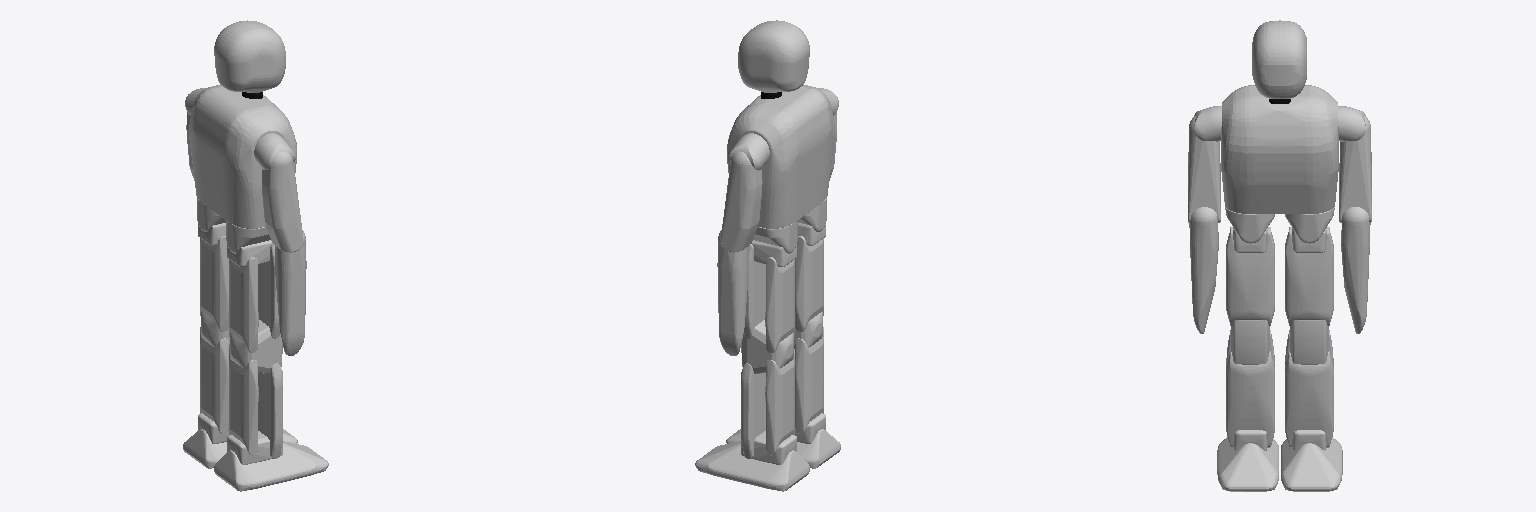
--- What the picture shows (computed from the rendered views, not written in the file) ---
3 views of the same robot in one strip: view 1: azimuth 30°, elevation 25°; view 2: azimuth 150°, elevation 25°; view 3: azimuth 270°, elevation 25° (orthographic).
Robot: nimbro_op2x — 42 links, 41 joints (36 continuous, 5 fixed); root link trunk_link; default pose: all joints at 0.
Links seen in each view (by area): view 1: trunk_link, head_link, right_upper_arm_link, parallel_right_foot_link, right_lower_arm_link, parallel_right_shank_back_link, parallel_left_shank_back_link, parallel_right_thigh_back_link, parallel_left_thigh_back_link, parallel_right_shank_front_link, parallel_right_knee_front_link, parallel_right_thigh_front_link (+6 smaller); view 2: trunk_link, head_link, left_upper_arm_link, parallel_left_foot_link, left_lower_arm_link, parallel_left_shank_back_link, parallel_right_shank_back_link, parallel_left_thigh_back_link, parallel_right_thigh_back_link, parallel_left_shank_front_link, parallel_left_knee_front_link, parallel_left_thigh_front_link (+6 smaller); view 3: trunk_link, head_link, parallel_right_thigh_front_link, parallel_left_thigh_front_link, parallel_right_shank_front_link, parallel_left_shank_front_link, right_lower_arm_link, left_lower_arm_link, parallel_right_foot_link, parallel_left_foot_link, right_upper_arm_link, left_upper_arm_link (+8 smaller).
Boxes of the visible links, left/top/right/bottom form: trunk_link: left=189, top=84, right=296, bottom=228; head_link: left=214, top=20, right=285, bottom=92; right_upper_arm_link: left=262, top=151, right=303, bottom=252; parallel_right_foot_link: left=214, top=441, right=328, bottom=491; right_lower_arm_link: left=275, top=230, right=306, bottom=355; parallel_right_shank_back_link: left=229, top=349, right=258, bottom=455; parallel_left_shank_back_link: left=200, top=327, right=228, bottom=433; parallel_right_thigh_back_link: left=229, top=257, right=258, bottom=352; parallel_left_thigh_back_link: left=200, top=236, right=228, bottom=331; parallel_right_shank_front_link: left=258, top=363, right=282, bottom=458; parallel_right_knee_front_link: left=230, top=320, right=282, bottom=373; parallel_right_thigh_front_link: left=258, top=243, right=280, bottom=338; trunk_link: left=727, top=84, right=834, bottom=228; head_link: left=738, top=20, right=809, bottom=92; left_upper_arm_link: left=720, top=152, right=762, bottom=252; parallel_left_foot_link: left=695, top=441, right=809, bottom=491; left_lower_arm_link: left=717, top=230, right=748, bottom=355; parallel_left_shank_back_link: left=765, top=349, right=794, bottom=455; parallel_right_shank_back_link: left=795, top=327, right=823, bottom=433; parallel_left_thigh_back_link: left=765, top=257, right=794, bottom=353; parallel_right_thigh_back_link: left=795, top=236, right=823, bottom=331; parallel_left_shank_front_link: left=741, top=363, right=765, bottom=458; parallel_left_knee_front_link: left=741, top=320, right=793, bottom=373; parallel_left_thigh_front_link: left=744, top=244, right=765, bottom=338; trunk_link: left=1221, top=85, right=1338, bottom=213; head_link: left=1252, top=20, right=1306, bottom=98; parallel_right_thigh_front_link: left=1226, top=229, right=1274, bottom=325; parallel_left_thigh_front_link: left=1285, top=229, right=1333, bottom=325; parallel_right_shank_front_link: left=1226, top=351, right=1274, bottom=447; parallel_left_shank_front_link: left=1285, top=351, right=1333, bottom=447; right_lower_arm_link: left=1189, top=207, right=1218, bottom=333; left_lower_arm_link: left=1341, top=207, right=1370, bottom=333; parallel_right_foot_link: left=1217, top=437, right=1278, bottom=491; parallel_left_foot_link: left=1281, top=437, right=1342, bottom=491; right_upper_arm_link: left=1188, top=116, right=1220, bottom=222; left_upper_arm_link: left=1339, top=116, right=1371, bottom=222.
Size in the robot's own frame: 0.298 by 0.5006 by 1.32 metres.
Meshes: 21 distinct files referenced, 27 mesh visuals loaded (21 binary STL).

URDF robot description (nimbro_op2x):
<?xml version="1.0" ?>
<!-- =================================================================================== -->
<!-- |    This document was autogenerated by xacro from nimbro_op2x_hull.xacro         | -->
<!-- |    EDITING THIS FILE BY HAND IS NOT RECOMMENDED                                 | -->
<!-- =================================================================================== -->
<robot name="nimbro_op2x" xmlns:xacro="http://www.ros.org/wiki/xacro">
  <!-- Materials -->
  <material name="black">
    <color rgba="0.1 0.1 0.1 1"/>
  </material>
  <material name="white">
    <color rgba="0.8 0.8 0.8 1"/>
  </material>
  <material name="clear">
    <color rgba="1.0 1.0 1.0 0.0"/>
  </material>
  <material name="orange">
    <color rgba="1.0 0.423529411765 0.0392156862745 1.0"/>
  </material>
  <!-- Joints and links -->
  <link name="trunk_link">
    <inertial>
      <origin rpy="0 0 0" xyz="0 0 0"/>
      <mass value="5.06692801"/>
      <inertia ixx="0.18042907" ixy="-0.00003477" ixz="0.00412903" iyy="0.16069639" iyz="-0.00149697" izz="0.05070835"/>
    </inertial>
    <visual>
      <origin rpy="0 0 0 " xyz="0 0 0"/>
      <geometry>
        <mesh filename="package://nimbro_op_model/mesh/nimbro_op2x_hull/trunk_link.STL"/>
      </geometry>
      <material name="white"/>
    </visual>
    <collision>
      <origin rpy="0 0 0" xyz="0 0 0"/>
      <geometry>
        <mesh filename="package://nimbro_op_model/mesh/nimbro_op2x_hull/trunk_link.STL"/>
      </geometry>
    </collision>
  </link>
  <link name="right_hip_yaw_link">
    <inertial>
      <origin rpy="0 0 0" xyz="0 0 0"/>
      <mass value="0.31538736"/>
      <inertia ixx="0.00083031" ixy="0.00000000" ixz="0.00000087" iyy="0.00132167" iyz="0.00000000" izz="0.00121851"/>
    </inertial>
    <visual>
      <origin rpy="0 0 0" xyz="0 0 0"/>
      <geometry>
        <mesh filename="package://nimbro_op_model/mesh/nimbro_op2x_hull/hip_yaw_link.STL"/>
      </geometry>
      <material name="white"/>
    </visual>
    <collision>
      <origin rpy="0 0 0" xyz="0 0 0"/>
      <geometry>
        <mesh filename="package://nimbro_op_model/mesh/nimbro_op2x_hull/hip_yaw_link.STL"/>
      </geometry>
    </collision>
  </link>
  <joint name="right_hip_yaw" type="continuous">
    <origin rpy="0 0 0" xyz="0 -0.08 0.0005"/>
    <parent link="trunk_link"/>
    <child link="right_hip_yaw_link"/>
    <axis xyz="0 0 1"/>
  </joint>
  <link name="right_hip_roll_link">
    <inertial>
      <origin rpy="0 0 0" xyz="0 0 0"/>
      <mass value="0.52680550"/>
      <inertia ixx="0.00120200" ixy="0.00000000" ixz="0.00001968" iyy="0.00166590" iyz="-0.00000740" izz="0.00112573"/>
    </inertial>
    <visual>
      <origin rpy="0 0 0" xyz="0 0 0"/>
      <geometry>
        <mesh filename="package://nimbro_op_model/mesh/nimbro_op2x_hull/right_hip_link.STL"/>
      </geometry>
      <material name="white"/>
    </visual>
    <collision>
      <origin rpy="0 0 0" xyz="0 0 0"/>
      <geometry>
        <mesh filename="package://nimbro_op_model/mesh/nimbro_op2x_hull/right_hip_link.STL"/>
      </geometry>
    </collision>
  </link>
  <joint name="right_hip_roll" type="continuous">
    <origin rpy="0 0 0" xyz="0 0 -0.061"/>
    <parent link="right_hip_yaw_link"/>
    <child link="right_hip_roll_link"/>
    <axis xyz="1 0 0"/>
  </joint>
  <link name="right_thigh_link">
    <inertial>
      <origin rpy="0 0 0" xyz="0 0 0"/>
      <mass value="0.55499173"/>
      <inertia ixx="0.01456501" ixy="-0.00000047" ixz="0.00009111" iyy="0.01458714" iyz="0.00002339" izz="0.00214713"/>
    </inertial>
    <!-- Use parallel link visuals<visual>
				<origin xyz="0 0 0" rpy="0 0 0" />
				<geometry>
					<mesh filename="package://nimbro_op_model/mesh/${display_variant}/right_thigh_link.STL" />
				</geometry>
				<material name="white" />
			</visual>-->
    <collision>
      <origin rpy="0 0 0" xyz="0 0 0"/>
      <geometry>
        <mesh filename="package://nimbro_op_model/mesh/nimbro_op2x_hull/right_thigh_link.STL"/>
      </geometry>
    </collision>
  </link>
  <joint name="right_hip_pitch" type="continuous">
    <origin rpy="0 0 0" xyz="0 0 -0.03345"/>
    <parent link="right_hip_roll_link"/>
    <child link="right_thigh_link"/>
    <axis xyz="0 1 0"/>
  </joint>
  <link name="right_shank_link">
    <inertial>
      <origin rpy="0 0 0" xyz="0 0 0"/>
      <mass value="1.83365379"/>
      <inertia ixx="0.02014567" ixy="-0.00000142" ixz="-0.00052860" iyy="0.02047566" iyz="0.00002624" izz="0.00481117"/>
    </inertial>
    <!-- Use parallel link visuals<visual>
				<origin xyz="0 0 0" rpy="0 0 0" />
				<geometry>
					<mesh filename="package://nimbro_op_model/mesh/${display_variant}/right_shank_link.STL" />
				</geometry>
				<material name="white" />
			</visual>-->
    <collision>
      <origin rpy="0 0 0" xyz="0 0 0"/>
      <geometry>
        <mesh filename="package://nimbro_op_model/mesh/nimbro_op2x_hull/right_shank_link.STL"/>
      </geometry>
    </collision>
  </link>
  <joint name="right_knee_pitch" type="continuous">
    <origin rpy="0 0 0" xyz="0 0 -0.29835"/>
    <parent link="right_thigh_link"/>
    <child link="right_shank_link"/>
    <axis xyz="0 1 0"/>
  </joint>
  <link name="right_ankle_link">
    <inertial>
      <origin rpy="0 0 0" xyz="0 0 0"/>
      <mass value="0.52680550"/>
      <inertia ixx="0.00054388" ixy="0.00000000" ixz="-0.00001644" iyy="0.00100778" iyz="-0.00000164" izz="0.00112573"/>
    </inertial>
    <!-- Use parallel link visuals<visual>
				<origin xyz="0 0 0" rpy="0 0 0" />
				<geometry>
					<mesh filename="package://nimbro_op_model/mesh/${display_variant}/right_ankle_link.STL" />
				</geometry>
				<material name="white" />
			</visual>-->
    <collision>
      <origin rpy="0 0 0" xyz="0 0 0"/>
      <geometry>
        <mesh filename="package://nimbro_op_model/mesh/nimbro_op2x_hull/right_ankle_link.STL"/>
      </geometry>
    </collision>
  </link>
  <joint name="right_ankle_pitch" type="continuous">
    <origin rpy="0 0 0" xyz="0 0 -0.29835"/>
    <parent link="right_shank_link"/>
    <child link="right_ankle_link"/>
    <axis xyz="0 1 0"/>
  </joint>
  <link name="right_foot_link">
    <inertial>
      <origin rpy="0 0 0" xyz="0 0 0"/>
      <mass value="0.49970531"/>
      <inertia ixx="0.00157166" ixy="-0.00008685" ixz="-0.00064756" iyy="0.00509988" iyz="0.00005307" izz="0.00557515"/>
    </inertial>
    <!-- Use parallel link visuals<visual>
				<origin xyz="0 0 0" rpy="0 0 0" />
				<geometry>
					<mesh filename="package://nimbro_op_model/mesh/${display_variant}/right_foot_link.STL" />
				</geometry>
				<material name="white" />
			</visual>-->
    <collision>
      <origin rpy="0 0 0" xyz="0 0 0"/>
      <geometry>
        <mesh filename="package://nimbro_op_model/mesh/nimbro_op2x_hull/right_foot_link.STL"/>
      </geometry>
    </collision>
  </link>
  <joint name="right_ankle_roll" type="continuous">
    <origin rpy="0 0 0" xyz="0 0 -0.03345"/>
    <parent link="right_ankle_link"/>
    <child link="right_foot_link"/>
    <axis xyz="1 0 0"/>
  </joint>
  <link name="right_foot_plane_link">
		</link>
  <joint name="right_foot_plane_joint" type="fixed">
    <origin rpy="0 0 0" xyz="0.04562 -0.005 -0.055"/>
    <parent link="right_foot_link"/>
    <child link="right_foot_plane_link"/>
  </joint>
  <link name="left_hip_yaw_link">
    <inertial>
      <origin rpy="0 0 0" xyz="0 0 0"/>
      <mass value="0.31538736"/>
      <inertia ixx="0.00083031" ixy="0.00000000" ixz="0.00000087" iyy="0.00132167" iyz="0.00000000" izz="0.00121851"/>
    </inertial>
    <visual>
      <origin rpy="0 0 0" xyz="0 0 0"/>
      <geometry>
        <mesh filename="package://nimbro_op_model/mesh/nimbro_op2x_hull/hip_yaw_link.STL"/>
      </geometry>
      <material name="white"/>
    </visual>
    <collision>
      <origin rpy="0 0 0" xyz="0 0 0"/>
      <geometry>
        <mesh filename="package://nimbro_op_model/mesh/nimbro_op2x_hull/hip_yaw_link.STL"/>
      </geometry>
    </collision>
  </link>
  <joint name="left_hip_yaw" type="continuous">
    <origin rpy="0 0 0" xyz="0 0.08 0.0005"/>
    <parent link="trunk_link"/>
    <child link="left_hip_yaw_link"/>
    <axis xyz="0 0 1"/>
  </joint>
  <link name="left_hip_roll_link">
    <inertial>
      <origin rpy="0 0 0" xyz="0 0 0"/>
      <mass value="0.52680550"/>
      <inertia ixx="0.00120200" ixy="0.00000008" ixz="0.00001968" iyy="0.00166590" iyz="0.00000739" izz="0.00112573"/>
    </inertial>
    <visual>
      <origin rpy="0 0 0" xyz="0 0 0"/>
      <geometry>
        <mesh filename="package://nimbro_op_model/mesh/nimbro_op2x_hull/left_hip_link.STL"/>
      </geometry>
      <material name="white"/>
    </visual>
    <collision>
      <origin rpy="0 0 0" xyz="0 0 0"/>
      <geometry>
        <mesh filename="package://nimbro_op_model/mesh/nimbro_op2x_hull/left_hip_link.STL"/>
      </geometry>
    </collision>
  </link>
  <joint name="left_hip_roll" type="continuous">
    <origin rpy="0 0 0" xyz="0 0 -0.061"/>
    <parent link="left_hip_yaw_link"/>
    <child link="left_hip_roll_link"/>
    <axis xyz="1 0 0"/>
  </joint>
  <link name="left_thigh_link">
    <inertial>
      <origin rpy="0 0 0" xyz="0 0 0"/>
      <mass value="0.55499173"/>
      <inertia ixx="0.01456501" ixy="-0.00000047" ixz="0.00009111" iyy="0.01458714" iyz="0.00002339" izz="0.00214713"/>
    </inertial>
    <!-- Use parallel link visuals<visual>
				<origin xyz="0 0 0" rpy="0 0 0" />
				<geometry>
					<mesh filename="package://nimbro_op_model/mesh/${display_variant}/left_thigh_link.STL" />
				</geometry>
				<material name="white" />
			</visual>-->
    <collision>
      <origin rpy="0 0 0" xyz="0 0 0"/>
      <geometry>
        <mesh filename="package://nimbro_op_model/mesh/nimbro_op2x_hull/left_thigh_link.STL"/>
      </geometry>
    </collision>
  </link>
  <joint name="left_hip_pitch" type="continuous">
    <origin rpy="0 0 0" xyz="0 0 -0.03345"/>
    <parent link="left_hip_roll_link"/>
    <child link="left_thigh_link"/>
    <axis xyz="0 1 0"/>
  </joint>
  <link name="left_shank_link">
    <inertial>
      <origin rpy="0 0 0" xyz="0 0 0"/>
      <mass value="1.83365379"/>
      <inertia ixx="0.02014567" ixy="-0.00000142" ixz="-0.00052860" iyy="0.02047566" iyz="0.00002624" izz="0.00481117"/>
    </inertial>
    <!-- Use parallel link visuals<visual>
				<origin xyz="0 0 0" rpy="0 0 0" />
				<geometry>
					<mesh filename="package://nimbro_op_model/mesh/${display_variant}/left_shank_link.STL" />
				</geometry>
				<material name="white" />
			</visual>-->
    <collision>
      <origin rpy="0 0 0" xyz="0 0 0"/>
      <geometry>
        <mesh filename="package://nimbro_op_model/mesh/nimbro_op2x_hull/left_shank_link.STL"/>
      </geometry>
    </collision>
  </link>
  <joint name="left_knee_pitch" type="continuous">
    <origin rpy="0 0 0" xyz="0 0 -0.29835"/>
    <parent link="left_thigh_link"/>
    <child link="left_shank_link"/>
    <axis xyz="0 1 0"/>
  </joint>
  <link name="left_ankle_link">
    <inertial>
      <origin rpy="0 0 0" xyz="0 0 0"/>
      <mass value="0.52680550"/>
      <inertia ixx="0.00054388" ixy="-0.00000008" ixz="-0.00001644" iyy="0.00100778" iyz="0.00000167" izz="0.00112573"/>
    </inertial>
    <!-- Use parallel link visuals<visual>
				<origin xyz="0 0 0" rpy="0 0 0" />
				<geometry>
					<mesh filename="package://nimbro_op_model/mesh/${display_variant}/left_ankle_link.STL" />
				</geometry>
				<material name="white" />
			</visual>-->
    <collision>
      <origin rpy="0 0 0" xyz="0 0 0"/>
      <geometry>
        <mesh filename="package://nimbro_op_model/mesh/nimbro_op2x_hull/left_ankle_link.STL"/>
      </geometry>
    </collision>
  </link>
  <joint name="left_ankle_pitch" type="continuous">
    <origin rpy="0 0 0" xyz="0 0 -0.29835"/>
    <parent link="left_shank_link"/>
    <child link="left_ankle_link"/>
    <axis xyz="0 1 0"/>
  </joint>
  <link name="left_foot_link">
    <inertial>
      <origin rpy="0 0 0" xyz="0 0 0"/>
      <mass value="0.49972267"/>
      <inertia ixx="0.00157170" ixy="0.00008675" ixz="-0.00064765" iyy="0.00510038" iyz="-0.00005304" izz="0.00557564"/>
    </inertial>
    <!-- Use parallel link visuals<visual>
				<origin xyz="0 0 0" rpy="0 0 0" />
				<geometry>
					<mesh filename="package://nimbro_op_model/mesh/${display_variant}/left_foot_link.STL" />
				</geometry>
				<material name="white" />
			</visual>-->
    <collision>
      <origin rpy="0 0 0" xyz="0 0 0"/>
      <geometry>
        <mesh filename="package://nimbro_op_model/mesh/nimbro_op2x_hull/left_foot_link.STL"/>
      </geometry>
    </collision>
  </link>
  <joint name="left_ankle_roll" type="continuous">
    <origin rpy="0 0 0" xyz="0 0 -0.03345"/>
    <parent link="left_ankle_link"/>
    <child link="left_foot_link"/>
    <axis xyz="1 0 0"/>
  </joint>
  <link name="left_foot_plane_link">
		</link>
  <joint name="left_foot_plane_joint" type="fixed">
    <origin rpy="0 0 0" xyz="0.04562 0.005 -0.055"/>
    <parent link="left_foot_link"/>
    <child link="left_foot_plane_link"/>
  </joint>
  <link name="right_shoulder_pitch_link">
    <inertial>
      <origin rpy="0 0 0" xyz="0 0 0"/>
      <mass value="0.15970499"/>
      <inertia ixx="0.00030253" ixy="-0.00000407" ixz="0.00000011" iyy="0.00024077" iyz="-0.00003234" izz="0.00035553"/>
    </inertial>
    <visual>
      <origin rpy="0 0 0" xyz="0 0 0"/>
      <geometry>
        <mesh filename="package://nimbro_op_model/mesh/nimbro_op2x_hull/right_shoulder_link.STL"/>
      </geometry>
      <material name="white"/>
    </visual>
    <collision>
      <origin rpy="0 0 0" xyz="0 0 0"/>
      <geometry>
        <mesh filename="package://nimbro_op_model/mesh/nimbro_op2x_hull/right_shoulder_link.STL"/>
      </geometry>
    </collision>
  </link>
  <joint name="right_shoulder_pitch" type="continuous">
    <origin rpy="0 0 0" xyz="0 -0.1498 0.236"/>
    <parent link="trunk_link"/>
    <child link="right_shoulder_pitch_link"/>
    <axis xyz="0 1 0"/>
  </joint>
  <link name="right_upper_arm_link">
    <inertial>
      <origin rpy="0 0 0" xyz="0 0 0"/>
      <mass value="0.52300771"/>
      <inertia ixx="0.00862891" ixy="-0.00000237" ixz="-0.00039851" iyy="0.00859246" iyz="0.00002156" izz="0.00061847"/>
    </inertial>
    <visual>
      <origin rpy="0 0 0" xyz="0 0 0"/>
      <geometry>
        <mesh filename="package://nimbro_op_model/mesh/nimbro_op2x_hull/right_upper_arm_link.STL"/>
      </geometry>
      <material name="white"/>
    </visual>
    <collision>
      <origin rpy="0 0 0" xyz="0 0 0"/>
      <geometry>
        <mesh filename="package://nimbro_op_model/mesh/nimbro_op2x_hull/right_upper_arm_link.STL"/>
      </geometry>
    </collision>
  </link>
  <joint name="right_shoulder_roll" type="continuous">
    <origin rpy="0 0 0" xyz="0 -0.05575 -0.015"/>
    <parent link="right_shoulder_pitch_link"/>
    <child link="right_upper_arm_link"/>
    <axis xyz="1 0 0"/>
  </joint>
  <link name="right_lower_arm_link">
    <inertial>
      <origin rpy="0 0 0" xyz="0 0 0"/>
      <mass value="0.47523964"/>
      <inertia ixx="0.00852265" ixy="0.00000000" ixz="-0.00000004" iyy="0.00849800" iyz="0.00026661" izz="0.00044576"/>
    </inertial>
    <visual>
      <origin rpy="0 0 0" xyz="0 0 0"/>
      <geometry>
        <mesh filename="package://nimbro_op_model/mesh/nimbro_op2x_hull/right_lower_arm_link.STL"/>
      </geometry>
      <material name="white"/>
    </visual>
    <collision>
      <origin rpy="0 0 0" xyz="0 0 0"/>
      <geometry>
        <mesh filename="package://nimbro_op_model/mesh/nimbro_op2x_hull/right_lower_arm_link.STL"/>
      </geometry>
    </collision>
  </link>
  <joint name="right_elbow_pitch" type="continuous">
    <origin rpy="0 0 0" xyz="0.04033 0 -0.24891"/>
    <parent link="right_upper_arm_link"/>
    <child link="right_lower_arm_link"/>
    <axis xyz="0 1 0"/>
  </joint>
  <link name="left_shoulder_pitch_link">
    <inertial>
      <origin rpy="0 0 0" xyz="0 0 0"/>
      <mass value="0.15970410"/>
      <inertia ixx="0.00030253" ixy="0.00000408" ixz="0.00000011" iyy="0.00024078" iyz="0.00003234" izz="0.00035553"/>
    </inertial>
    <visual>
      <origin rpy="0 0 0" xyz="0 0 0"/>
      <geometry>
        <mesh filename="package://nimbro_op_model/mesh/nimbro_op2x_hull/left_shoulder_link.STL"/>
      </geometry>
      <material name="white"/>
    </visual>
    <collision>
      <origin rpy="0 0 0" xyz="0 0 0"/>
      <geometry>
        <mesh filename="package://nimbro_op_model/mesh/nimbro_op2x_hull/left_shoulder_link.STL"/>
      </geometry>
    </collision>
  </link>
  <joint name="left_shoulder_pitch" type="continuous">
    <origin rpy="0 0 0" xyz="0 0.1498 0.236"/>
    <parent link="trunk_link"/>
    <child link="left_shoulder_pitch_link"/>
    <axis xyz="0 1 0"/>
  </joint>
  <link name="left_upper_arm_link">
    <inertial>
      <origin rpy="0 0 0" xyz="0 0 0"/>
      <mass value="0.52303666"/>
      <inertia ixx="0.00862898" ixy="0.00000234" ixz="-0.00037949" iyy="0.00858971" iyz="-0.00002155" izz="0.00061569"/>
    </inertial>
    <visual>
      <origin rpy="0 0 0" xyz="0 0 0"/>
      <geometry>
        <mesh filename="package://nimbro_op_model/mesh/nimbro_op2x_hull/left_upper_arm_link.STL"/>
      </geometry>
      <material name="white"/>
    </visual>
    <collision>
      <origin rpy="0 0 0" xyz="0 0 0"/>
      <geometry>
        <mesh filename="package://nimbro_op_model/mesh/nimbro_op2x_hull/left_upper_arm_link.STL"/>
      </geometry>
    </collision>
  </link>
  <joint name="left_shoulder_roll" type="continuous">
    <origin rpy="0 0 0" xyz="0 0.05575 -0.015"/>
    <parent link="left_shoulder_pitch_link"/>
    <child link="left_upper_arm_link"/>
    <axis xyz="1 0 0"/>
  </joint>
  <link name="left_lower_arm_link">
    <inertial>
      <origin rpy="0 0 0" xyz="0 0 0"/>
      <mass value="0.47523964"/>
      <inertia ixx="0.00852159" ixy="0.00000000" ixz="0.00000004" iyy="0.00849800" iyz="-0.00025811" izz="0.00044471"/>
    </inertial>
    <visual>
      <origin rpy="0 0 0" xyz="0 0 0"/>
      <geometry>
        <mesh filename="package://nimbro_op_model/mesh/nimbro_op2x_hull/left_lower_arm_link.STL"/>
      </geometry>
      <material name="white"/>
    </visual>
    <collision>
      <origin rpy="0 0 0" xyz="0 0 0"/>
      <geometry>
        <mesh filename="package://nimbro_op_model/mesh/nimbro_op2x_hull/left_lower_arm_link.STL"/>
      </geometry>
    </collision>
  </link>
  <joint name="left_elbow_pitch" type="continuous">
    <origin rpy="0 0 0" xyz="0.04033 0 -0.24891"/>
    <parent link="left_upper_arm_link"/>
    <child link="left_lower_arm_link"/>
    <axis xyz="0 1 0"/>
  </joint>
  <link name="neck_link">
    <inertial>
      <origin rpy="0 0 0" xyz="0 0 0"/>
      <mass value="0.19581279"/>
      <inertia ixx="0.00030225" ixy="0.00000000" ixz="-0.00001219" iyy="0.00028951" iyz="0.00000473" izz="0.00006618"/>
    </inertial>
    <visual>
      <origin rpy="0 0 0" xyz="0 0 0"/>
      <geometry>
        <mesh filename="package://nimbro_op_model/mesh/nimbro_op2x_hull/neck_link.STL"/>
      </geometry>
      <material name="black"/>
    </visual>
    <collision>
      <origin rpy="0 0 0" xyz="0 0 0"/>
      <geometry>
        <mesh filename="package://nimbro_op_model/mesh/nimbro_op2x_hull/neck_link.STL"/>
      </geometry>
    </collision>
  </link>
  <joint name="neck_yaw" type="continuous">
    <origin rpy="0 0 0" xyz="0.04 0 0.3098"/>
    <parent link="trunk_link"/>
    <child link="neck_link"/>
    <axis xyz="0 0 1"/>
  </joint>
  <link name="head_link">
    <inertial>
      <origin rpy="0 0 0" xyz="0 0 0"/>
      <mass value="0.52270194"/>
      <inertia ixx="0.00594799" ixy="-0.00000704" ixz="-0.00027581" iyy="0.00657505" iyz="-0.00002352" izz="0.00294225"/>
    </inertial>
    <visual>
      <origin rpy="0 0 0" xyz="0 0 0"/>
      <geometry>
        <mesh filename="package://nimbro_op_model/mesh/nimbro_op2x_hull/head_link.STL"/>
      </geometry>
      <material name="white"/>
    </visual>
    <collision>
      <origin rpy="0 0 0" xyz="0 0 0"/>
      <geometry>
        <mesh filename="package://nimbro_op_model/mesh/nimbro_op2x_hull/head_link.STL"/>
      </geometry>
    </collision>
  </link>
  <joint name="head_pitch" type="continuous">
    <origin rpy="0 0 0" xyz="0 0 0.04975"/>
    <parent link="neck_link"/>
    <child link="head_link"/>
    <axis xyz="0 1 0"/>
  </joint>
  <link name="camera_optical">
		</link>
  <joint name="camera_joint" type="fixed">
    <origin rpy="-1.74532925199 0 -1.57079632679" xyz="0.04488 -0.0375 0.08231"/>
    <parent link="head_link"/>
    <child link="camera_optical"/>
    <axis xyz="0 0 0"/>
  </joint>
  <!-- Parallel Kinematics visuals only, begin in hip rolls-->
  <!-- Right Leg-->
  <joint name="parallel_right_thigh_pitch" type="continuous">
    <origin rpy="0 0 0" xyz="0.0355 0 -0.01955"/>
    <parent link="right_hip_roll_link"/>
    <child link="parallel_right_thigh_front_link"/>
    <axis xyz="0 1 0"/>
  </joint>
  <link name="parallel_right_thigh_front_link">
    <visual>
      <origin rpy="0 0 0" xyz="0 0 0"/>
      <geometry>
        <mesh filename="package://nimbro_op_model/mesh/nimbro_op2x_hull/thigh_front_link.STL"/>
      </geometry>
      <material name="white"/>
    </visual>
  </link>
  <joint name="parallel_right_thigh_pitch_mimic1" type="continuous">
    <origin rpy="0 0 0" xyz="0 0 -0.26"/>
    <parent link="parallel_right_thigh_front_link"/>
    <child link="parallel_right_knee_front_link"/>
    <axis xyz="0 1 0"/>
    <mimic joint="parallel_right_thigh_pitch" multiplier="-1" offset="0"/>
  </joint>
  <link name="parallel_right_knee_front_link">
    <visual>
      <origin rpy="0 0 0" xyz="0 0 0"/>
      <geometry>
        <mesh filename="package://nimbro_op_model/mesh/nimbro_op2x_hull/knee_link.STL"/>
      </geometry>
      <material name="white"/>
    </visual>
  </link>
  <joint name="parallel_right_shank_pitch" type="continuous">
    <origin rpy="0 0 0" xyz="0 0 -0.1045"/>
    <parent link="parallel_right_knee_front_link"/>
    <child link="parallel_right_shank_front_link"/>
    <axis xyz="0 1 0"/>
  </joint>
  <link name="parallel_right_shank_front_link">
    <visual>
      <origin rpy="0 0 0" xyz="0 0 0"/>
      <geometry>
        <mesh filename="package://nimbro_op_model/mesh/nimbro_op2x_hull/shank_front_link.STL"/>
      </geometry>
      <material name="white"/>
    </visual>
  </link>
  <joint name="parallel_right_shank_pitch_mimic1" type="continuous">
    <origin rpy="0 0 0" xyz="0 0 -0.26"/>
    <parent link="parallel_right_shank_front_link"/>
    <child link="parallel_right_ankle_link"/>
    <axis xyz="0 1 0"/>
    <mimic joint="parallel_right_shank_pitch" multiplier="-1" offset="0"/>
  </joint>
  <link name="parallel_right_ankle_link">
    <visual>
      <origin rpy="0 0 0" xyz="-0.0355 0 0.0139"/>
      <geometry>
        <mesh filename="package://nimbro_op_model/mesh/nimbro_op2x_hull/right_ankle_link.STL"/>
      </geometry>
      <material name="white"/>
    </visual>
  </link>
  <joint name="parallel_right_ankle_roll" type="continuous">
    <origin rpy="0 0 0" xyz="-0.0355 0 -0.01955"/>
    <parent link="parallel_right_ankle_link"/>
    <child link="parallel_right_foot_link"/>
    <axis xyz="1 0 0"/>
  </joint>
  <link name="parallel_right_foot_link">
    <visual>
      <origin rpy="0 0 0" xyz="0 0 0"/>
      <geometry>
        <mesh filename="package://nimbro_op_model/mesh/nimbro_op2x_hull/right_foot_link.STL"/>
      </geometry>
      <material name="white"/>
    </visual>
  </link>
  <joint name="parallel_right_foot_plane_joint" type="fixed">
    <origin rpy="0 0 0" xyz="0.04562 -0.005 -0.055"/>
    <parent link="parallel_right_foot_link"/>
    <child link="parallel_right_foot_plane_link"/>
  </joint>
  <link name="parallel_right_foot_plane_link">
		</link>
  <!-- back chain-->
  <joint name="parallel_right_thigh_pitch_mimic2" type="continuous">
    <origin rpy="0 0 0" xyz="-0.036 0 -0.04755"/>
    <parent link="right_hip_roll_link"/>
    <child link="parallel_right_thigh_back_link"/>
    <axis xyz="0 1 0"/>
    <mimic joint="parallel_right_thigh_pitch" multiplier="1" offset="0"/>
  </joint>
  <link name="parallel_right_thigh_back_link">
    <visual>
      <origin rpy="0 0 0" xyz="0 0 0"/>
      <geometry>
        <mesh filename="package://nimbro_op_model/mesh/nimbro_op2x_hull/thigh_back_link.STL"/>
      </geometry>
      <material name="white"/>
    </visual>
  </link>
  <joint name="parallel_right_thigh_pitch_mimic3" type="continuous">
    <origin rpy="0 0 0" xyz="0 0 -0.26"/>
    <parent link="parallel_right_thigh_back_link"/>
    <child link="parallel_right_knee_back_link"/>
    <axis xyz="0 1 0"/>
    <mimic joint="parallel_right_thigh_pitch" multiplier="-1" offset="0"/>
  </joint>
  <link name="parallel_right_knee_back_link">
		</link>
  <joint name="parallel_right_shank_pitch_mimic2" type="continuous">
    <origin rpy="0 0 0" xyz="0 0 -0.0485"/>
    <parent link="parallel_right_knee_back_link"/>
    <child link="parallel_right_shank_back_link"/>
    <axis xyz="0 1 0"/>
    <mimic joint="parallel_right_shank_pitch" multiplier="1" offset="0"/>
  </joint>
  <link name="parallel_right_shank_back_link">
    <visual>
      <origin rpy="0 0 0" xyz="0 0 0"/>
      <geometry>
        <mesh filename="package://nimbro_op_model/mesh/nimbro_op2x_hull/shank_back_link.STL"/>
      </geometry>
      <material name="white"/>
    </visual>
  </link>
  <!-- Left Leg-->
  <joint name="parallel_left_thigh_pitch" type="continuous">
    <origin rpy="0 0 0" xyz="0.0355 0 -0.01955"/>
    <parent link="left_hip_roll_link"/>
    <child link="parallel_left_thigh_front_link"/>
    <axis xyz="0 1 0"/>
  </joint>
  <link name="parallel_left_thigh_front_link">
    <visual>
      <origin rpy="0 0 0" xyz="0 0 0"/>
      <geometry>
        <mesh filename="package://nimbro_op_model/mesh/nimbro_op2x_hull/thigh_front_link.STL"/>
      </geometry>
      <material name="white"/>
    </visual>
  </link>
  <joint name="parallel_left_thigh_pitch_mimic1" type="continuous">
    <origin rpy="0 0 0" xyz="0 0 -0.26"/>
    <parent link="parallel_left_thigh_front_link"/>
    <child link="parallel_left_knee_front_link"/>
    <axis xyz="0 1 0"/>
    <mimic joint="parallel_left_thigh_pitch" multiplier="-1" offset="0"/>
  </joint>
  <link name="parallel_left_knee_front_link">
    <visual>
      <origin rpy="0 0 0" xyz="0 0 0"/>
      <geometry>
        <mesh filename="package://nimbro_op_model/mesh/nimbro_op2x_hull/knee_link.STL"/>
      </geometry>
      <material name="white"/>
    </visual>
  </link>
  <joint name="parallel_left_shank_pitch" type="continuous">
    <origin rpy="0 0 0" xyz="0 0 -0.1045"/>
    <parent link="parallel_left_knee_front_link"/>
    <child link="parallel_left_shank_front_link"/>
    <axis xyz="0 1 0"/>
  </joint>
  <link name="parallel_left_shank_front_link">
    <visual>
      <origin rpy="0 0 0" xyz="0 0 0"/>
      <geometry>
        <mesh filename="package://nimbro_op_model/mesh/nimbro_op2x_hull/shank_front_link.STL"/>
      </geometry>
      <material name="white"/>
    </visual>
  </link>
  <joint name="parallel_left_shank_pitch_mimic1" type="continuous">
    <origin rpy="0 0 0" xyz="0 0 -0.26"/>
    <parent link="parallel_left_shank_front_link"/>
    <child link="parallel_left_ankle_link"/>
    <axis xyz="0 1 0"/>
    <mimic joint="parallel_left_shank_pitch" multiplier="-1" offset="0"/>
  </joint>
  <link name="parallel_left_ankle_link">
    <visual>
      <origin rpy="0 0 0" xyz="-0.0355 0 0.0139"/>
      <geometry>
        <mesh filename="package://nimbro_op_model/mesh/nimbro_op2x_hull/left_ankle_link.STL"/>
      </geometry>
      <material name="white"/>
    </visual>
  </link>
  <joint name="parallel_left_ankle_roll" type="continuous">
    <origin rpy="0 0 0" xyz="-0.0355 0 -0.01955"/>
    <parent link="parallel_left_ankle_link"/>
    <child link="parallel_left_foot_link"/>
    <axis xyz="1 0 0"/>
  </joint>
  <link name="parallel_left_foot_link">
    <visual>
      <origin rpy="0 0 0" xyz="0 0 0"/>
      <geometry>
        <mesh filename="package://nimbro_op_model/mesh/nimbro_op2x_hull/left_foot_link.STL"/>
      </geometry>
      <material name="white"/>
    </visual>
  </link>
  <joint name="parallel_left_foot_plane_joint" type="fixed">
    <origin rpy="0 0 0" xyz="0.04562 0.005 -0.055"/>
    <parent link="parallel_left_foot_link"/>
    <child link="parallel_left_foot_plane_link"/>
  </joint>
  <link name="parallel_left_foot_plane_link">
		</link>
  <!-- back chain-->
  <joint name="parallel_left_thigh_pitch_mimic2" type="continuous">
    <origin rpy="0 0 0" xyz="-0.036 0 -0.04755"/>
    <parent link="left_hip_roll_link"/>
    <child link="parallel_left_thigh_back_link"/>
    <axis xyz="0 1 0"/>
    <mimic joint="parallel_left_thigh_pitch" multiplier="1" offset="0"/>
  </joint>
  <link name="parallel_left_thigh_back_link">
    <visual>
      <origin rpy="0 0 0" xyz="0 0 0"/>
      <geometry>
        <mesh filename="package://nimbro_op_model/mesh/nimbro_op2x_hull/thigh_back_link.STL"/>
      </geometry>
      <material name="white"/>
    </visual>
  </link>
  <joint name="parallel_left_thigh_pitch_mimic3" type="continuous">
    <origin rpy="0 0 0" xyz="0 0 -0.26"/>
    <parent link="parallel_left_thigh_back_link"/>
    <child link="parallel_left_knee_back_link"/>
    <axis xyz="0 1 0"/>
    <mimic joint="parallel_left_thigh_pitch" multiplier="-1" offset="0"/>
  </joint>
  <link name="parallel_left_knee_back_link">
		</link>
  <joint name="parallel_left_shank_pitch_mimic2" type="continuous">
    <origin rpy="0 0 0" xyz="0 0 -0.0485"/>
    <parent link="parallel_left_knee_back_link"/>
    <child link="parallel_left_shank_back_link"/>
    <axis xyz="0 1 0"/>
    <mimic joint="parallel_left_shank_pitch" multiplier="1" offset="0"/>
  </joint>
  <link name="parallel_left_shank_back_link">
    <visual>
      <origin rpy="0 0 0" xyz="0 0 0"/>
      <geometry>
        <mesh filename="package://nimbro_op_model/mesh/nimbro_op2x_hull/shank_back_link.STL"/>
      </geometry>
      <material name="white"/>
    </visual>
  </link>
  <!-- Transmissions -->
  <transmission name="right_hip_yaw_transmission">
    <type>transmission_interface/SimpleTransmission</type>
    <joint name="right_hip_yaw">
      <hardwareInterface>EffortJointInterface</hardwareInterface>
    </joint>
    <actuator name="right_hip_yaw">
      <mechanicalReduction>1</mechanicalReduction>
    </actuator>
  </transmission>
  <transmission name="right_hip_roll_transmission">
    <type>transmission_interface/SimpleTransmission</type>
    <joint name="right_hip_roll">
      <hardwareInterface>EffortJointInterface</hardwareInterface>
    </joint>
    <actuator name="right_hip_roll">
      <mechanicalReduction>1</mechanicalReduction>
    </actuator>
  </transmission>
  <transmission name="right_hip_pitch_transmission">
    <type>transmission_interface/SimpleTransmission</type>
    <joint name="right_hip_pitch">
      <hardwareInterface>EffortJointInterface</hardwareInterface>
    </joint>
    <actuator name="right_hip_pitch">
      <mechanicalReduction>1</mechanicalReduction>
    </actuator>
  </transmission>
  <transmission name="right_knee_pitch_transmission">
    <type>transmission_interface/SimpleTransmission</type>
    <joint name="right_knee_pitch">
      <hardwareInterface>EffortJointInterface</hardwareInterface>
    </joint>
    <actuator name="right_knee_pitch">
      <mechanicalReduction>1</mechanicalReduction>
    </actuator>
  </transmission>
  <transmission name="right_ankle_pitch_transmission">
    <type>transmission_interface/SimpleTransmission</type>
    <joint name="right_ankle_pitch">
      <hardwareInterface>EffortJointInterface</hardwareInterface>
    </joint>
    <actuator name="right_ankle_pitch">
      <mechanicalReduction>1</mechanicalReduction>
    </actuator>
  </transmission>
  <transmission name="right_ankle_roll_transmission">
    <type>transmission_interface/SimpleTransmission</type>
    <joint name="right_ankle_roll">
      <hardwareInterface>EffortJointInterface</hardwareInterface>
    </joint>
    <actuator name="right_ankle_roll">
      <mechanicalReduction>1</mechanicalReduction>
    </actuator>
  </transmission>
  <transmission name="left_hip_yaw_transmission">
    <type>transmission_interface/SimpleTransmission</type>
    <joint name="left_hip_yaw">
      <hardwareInterface>EffortJointInterface</hardwareInterface>
    </joint>
    <actuator name="left_hip_yaw">
      <mechanicalReduction>1</mechanicalReduction>
    </actuator>
  </transmission>
  <transmission name="left_hip_roll_transmission">
    <type>transmission_interface/SimpleTransmission</type>
    <joint name="left_hip_roll">
      <hardwareInterface>EffortJointInterface</hardwareInterface>
    </joint>
    <actuator name="left_hip_roll">
      <mechanicalReduction>1</mechanicalReduction>
    </actuator>
  </transmission>
  <transmission name="left_hip_pitch_transmission">
    <type>transmission_interface/SimpleTransmission</type>
    <joint name="left_hip_pitch">
      <hardwareInterface>EffortJointInterface</hardwareInterface>
    </joint>
    <actuator name="left_hip_pitch">
      <mechanicalReduction>1</mechanicalReduction>
    </actuator>
  </transmission>
  <transmission name="left_knee_pitch_transmission">
    <type>transmission_interface/SimpleTransmission</type>
    <joint name="left_knee_pitch">
      <hardwareInterface>EffortJointInterface</hardwareInterface>
    </joint>
    <actuator name="left_knee_pitch">
      <mechanicalReduction>1</mechanicalReduction>
    </actuator>
  </transmission>
  <transmission name="left_ankle_pitch_transmission">
    <type>transmission_interface/SimpleTransmission</type>
    <joint name="left_ankle_pitch">
      <hardwareInterface>EffortJointInterface</hardwareInterface>
    </joint>
    <actuator name="left_ankle_pitch">
      <mechanicalReduction>1</mechanicalReduction>
    </actuator>
  </transmission>
  <transmission name="left_ankle_roll_transmission">
    <type>transmission_interface/SimpleTransmission</type>
    <joint name="left_ankle_roll">
      <hardwareInterface>EffortJointInterface</hardwareInterface>
    </joint>
    <actuator name="left_ankle_roll">
      <mechanicalReduction>1</mechanicalReduction>
    </actuator>
  </transmission>
  <transmission name="right_shoulder_pitch_transmission">
    <type>transmission_interface/SimpleTransmission</type>
    <joint name="right_shoulder_pitch">
      <hardwareInterface>EffortJointInterface</hardwareInterface>
    </joint>
    <actuator name="right_shoulder_pitch">
      <mechanicalReduction>1</mechanicalReduction>
    </actuator>
  </transmission>
  <transmission name="right_shoulder_roll_transmission">
    <type>transmission_interface/SimpleTransmission</type>
    <joint name="right_shoulder_roll">
      <hardwareInterface>EffortJointInterface</hardwareInterface>
    </joint>
    <actuator name="right_shoulder_roll">
      <mechanicalReduction>1</mechanicalReduction>
    </actuator>
  </transmission>
  <transmission name="right_elbow_pitch_transmission">
    <type>transmission_interface/SimpleTransmission</type>
    <joint name="right_elbow_pitch">
      <hardwareInterface>EffortJointInterface</hardwareInterface>
    </joint>
    <actuator name="right_elbow_pitch">
      <mechanicalReduction>1</mechanicalReduction>
    </actuator>
  </transmission>
  <transmission name="left_shoulder_pitch_transmission">
    <type>transmission_interface/SimpleTransmission</type>
    <joint name="left_shoulder_pitch">
      <hardwareInterface>EffortJointInterface</hardwareInterface>
    </joint>
    <actuator name="left_shoulder_pitch">
      <mechanicalReduction>1</mechanicalReduction>
    </actuator>
  </transmission>
  <transmission name="left_shoulder_roll_transmission">
    <type>transmission_interface/SimpleTransmission</type>
    <joint name="left_shoulder_roll">
      <hardwareInterface>EffortJointInterface</hardwareInterface>
    </joint>
    <actuator name="left_shoulder_roll">
      <mechanicalReduction>1</mechanicalReduction>
    </actuator>
  </transmission>
  <transmission name="left_elbow_pitch_transmission">
    <type>transmission_interface/SimpleTransmission</type>
    <joint name="left_elbow_pitch">
      <hardwareInterface>EffortJointInterface</hardwareInterface>
    </joint>
    <actuator name="left_elbow_pitch">
      <mechanicalReduction>1</mechanicalReduction>
    </actuator>
  </transmission>
  <transmission name="neck_yaw_transmission">
    <type>transmission_interface/SimpleTransmission</type>
    <joint name="neck_yaw">
      <hardwareInterface>EffortJointInterface</hardwareInterface>
    </joint>
    <actuator name="neck_yaw">
      <mechanicalReduction>1</mechanicalReduction>
    </actuator>
  </transmission>
  <transmission name="head_pitch_transmission">
    <type>transmission_interface/SimpleTransmission</type>
    <joint name="head_pitch">
      <hardwareInterface>EffortJointInterface</hardwareInterface>
    </joint>
    <actuator name="head_pitch">
      <mechanicalReduction>1</mechanicalReduction>
    </actuator>
  </transmission>
  <!-- Gazebo configuration -->
  <gazebo>
    <plugin filename="libgazebo_ros_control.so" name="gazebo_ros_control">
      <robotNamespace>/nimbro_op</robotNamespace>
    </plugin>
  </gazebo>
  <!-- Gazebo links -->
  <gazebo reference="trunk_link">
    <material>Gazebo/White</material>
  </gazebo>
  <gazebo reference="left_hip_yaw_link">
    <material>Gazebo/White</material>
  </gazebo>
  <gazebo reference="left_hip_roll_link">
    <material>Gazebo/White</material>
  </gazebo>
  <gazebo reference="left_thigh_link">
    <material>Gazebo/White</material>
  </gazebo>
  <gazebo reference="left_shank_link">
    <material>Gazebo/White</material>
  </gazebo>
  <gazebo reference="left_ankle_link">
    <material>Gazebo/White</material>
  </gazebo>
  <gazebo reference="left_foot_link">
    <material>Gazebo/White</material>
    <kp>1000000.0</kp>
    <kd>100.0</kd>
    <mu1>1.0</mu1>
    <mu2>1.0</mu2>
    <fdir1>1 0 0</fdir1>
    <maxVel>1.0</maxVel>
    <minDepth>0.00</minDepth>
  </gazebo>
  <gazebo reference="left_shoulder_pitch_link">
    <material>Gazebo/White</material>
  </gazebo>
  <gazebo reference="left_upper_arm_link">
    <material>Gazebo/White</material>
  </gazebo>
  <gazebo reference="left_lower_arm_link">
    <material>Gazebo/White</material>
  </gazebo>
  <gazebo reference="right_hip_yaw_link">
    <material>Gazebo/White</material>
  </gazebo>
  <gazebo reference="right_hip_roll_link">
    <material>Gazebo/White</material>
  </gazebo>
  <gazebo reference="right_thigh_link">
    <material>Gazebo/White</material>
  </gazebo>
  <gazebo reference="right_shank_link">
    <material>Gazebo/White</material>
  </gazebo>
  <gazebo reference="right_ankle_link">
    <material>Gazebo/White</material>
  </gazebo>
  <gazebo reference="right_foot_link">
    <material>Gazebo/White</material>
    <kp>1000000.0</kp>
    <kd>100.0</kd>
    <mu1>1.0</mu1>
    <mu2>1.0</mu2>
    <fdir1>1 0 0</fdir1>
    <maxVel>1.0</maxVel>
    <minDepth>0.00</minDepth>
  </gazebo>
  <gazebo reference="right_shoulder_pitch_link">
    <material>Gazebo/White</material>
  </gazebo>
  <gazebo reference="right_upper_arm_link">
    <material>Gazebo/White</material>
  </gazebo>
  <gazebo reference="right_lower_arm_link">
    <material>Gazebo/White</material>
  </gazebo>
  <gazebo reference="neck_link">
    <material>Gazebo/Black</material>
  </gazebo>
</robot>
